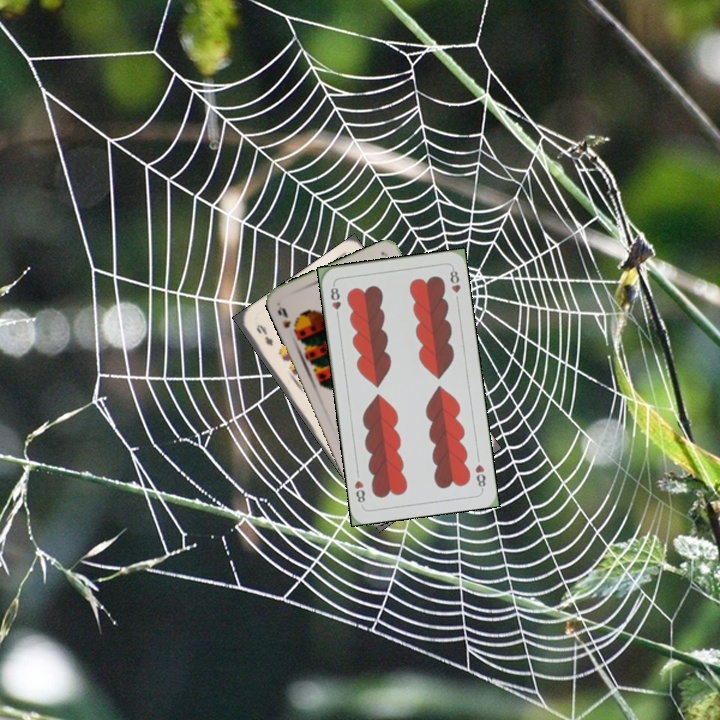E9: (252, 320, 276, 348)
H8: (327, 281, 343, 321), (471, 460, 488, 492)
S9: (273, 303, 302, 338)
